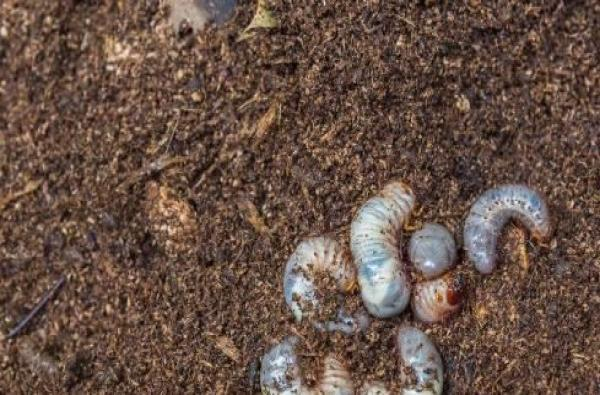grub: (341, 165, 424, 333)
